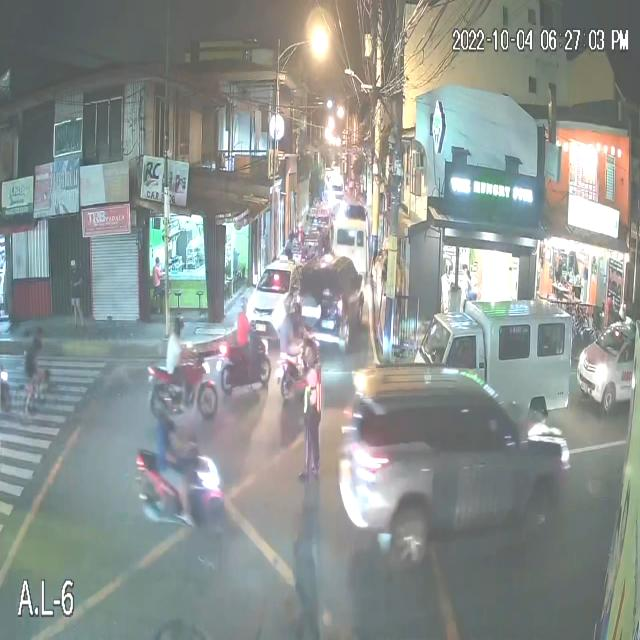Full-Faced: (157, 392, 173, 421), (172, 310, 186, 340), (289, 294, 304, 321), (236, 291, 251, 317), (281, 292, 295, 314)
